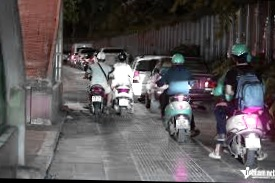Bien-so: (244, 138, 261, 149), (176, 119, 192, 129), (119, 99, 129, 106), (91, 95, 101, 102)
